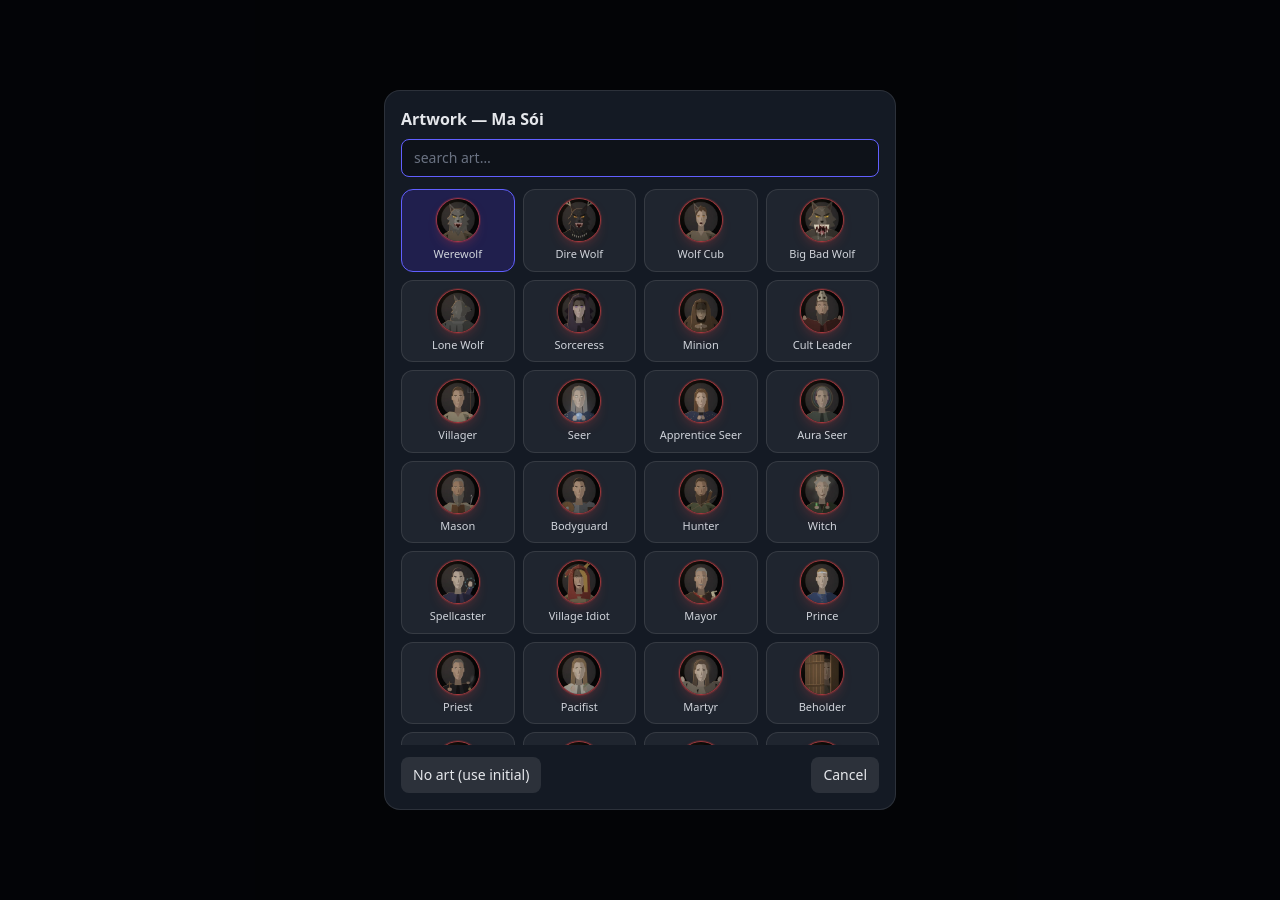
Test case: ArtPicker › finds art by a Vietnamese alias
In the field with placeholder "search art…": (640, 158) [401,139,879,177], type "phu thuy"
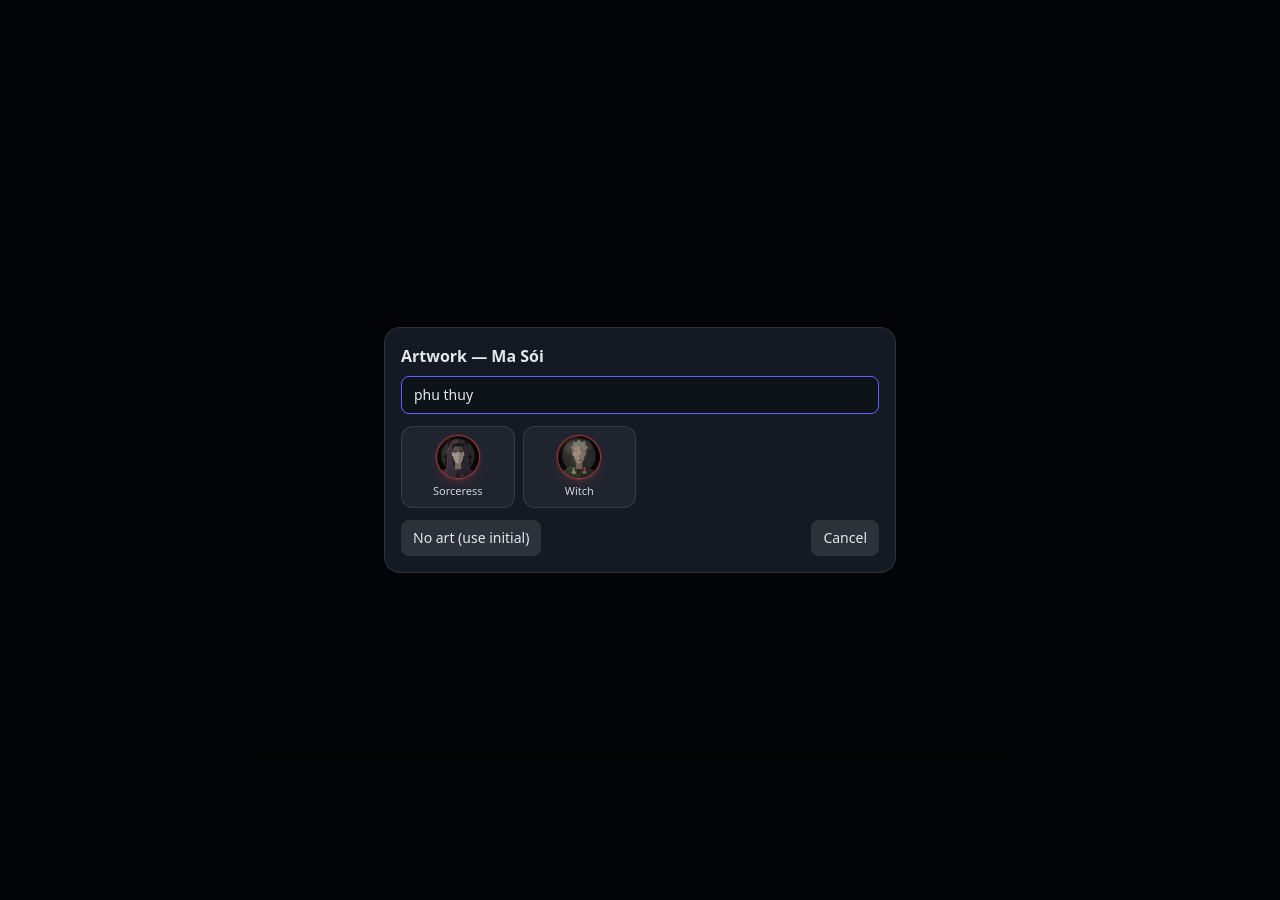
Check: the button "witch" is shown, box [522,426,636,508]
Check: the button "hunter" is gone
